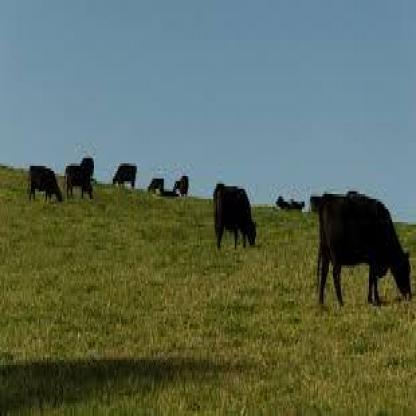cow: (316, 189, 413, 306), (213, 180, 258, 249), (28, 164, 64, 204), (62, 163, 94, 202), (112, 161, 138, 191), (275, 195, 306, 213), (174, 172, 190, 198), (80, 156, 96, 178), (147, 176, 166, 194), (310, 193, 322, 213)
